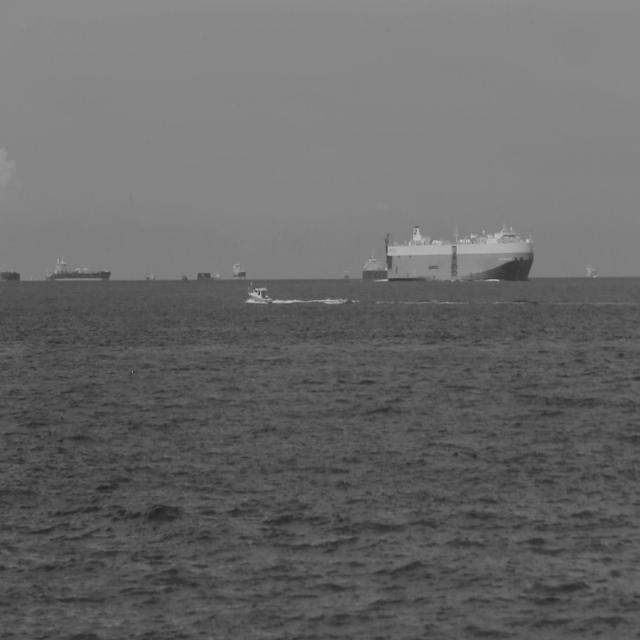ship: (383, 221, 534, 283), (43, 255, 112, 284), (361, 254, 387, 282), (246, 280, 274, 304), (231, 260, 247, 282), (0, 268, 21, 284), (196, 271, 212, 283), (144, 271, 156, 283), (180, 272, 189, 282), (214, 272, 221, 282)
